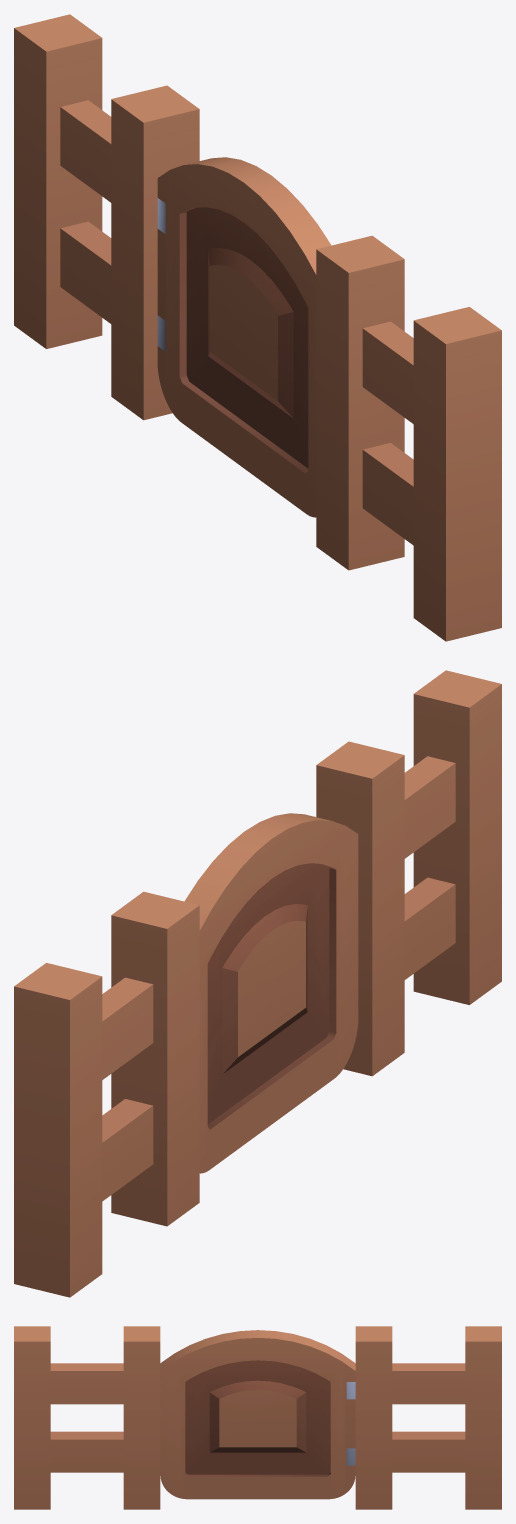
File: fence-gate.glb
3 views of the same model, one above another, from view 1: azimuth 30°, elevation 25°; view 2: azimuth 150°, elevation 25°; view 3: azimuth 270°, elevation 25° (orthographic). The views are drawn at different scales.
Visible parts, largest first — view 1: fence-gate; view 2: fence-gate; view 3: fence-gate.
Boxes of the visible parts, left/top/right/bottom form: fence-gate: left=14, top=14, right=501, bottom=641; fence-gate: left=14, top=670, right=501, bottom=1297; fence-gate: left=14, top=1326, right=501, bottom=1509.
Size of the model in its own units: 0.075 by 0.38 by 1.
Materials: 1 (1 with a texture image).
